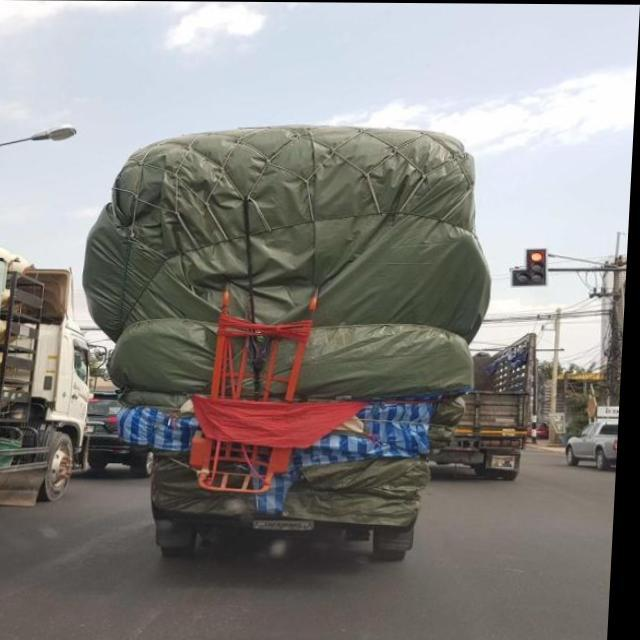covered: (70, 119, 486, 528)
